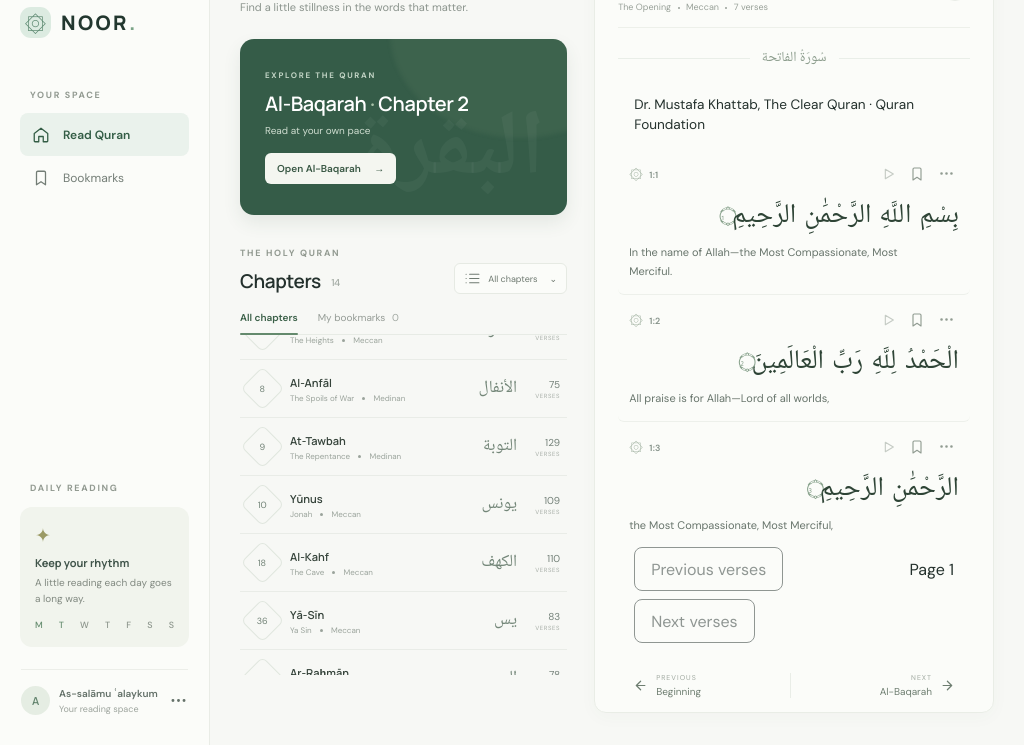
Scenario: Quran reader chapter navigation › shows the next available chapter when Next is selected
(page scrolled)
Expected: the button named "Bookmark verse 1" is shown, [903,161,930,187]
Click the button "10 Yūnus Jonah Meccan يونس 109 VERSES".
click(263, 504)  # box [240,476,567,534]
(page scrolled)
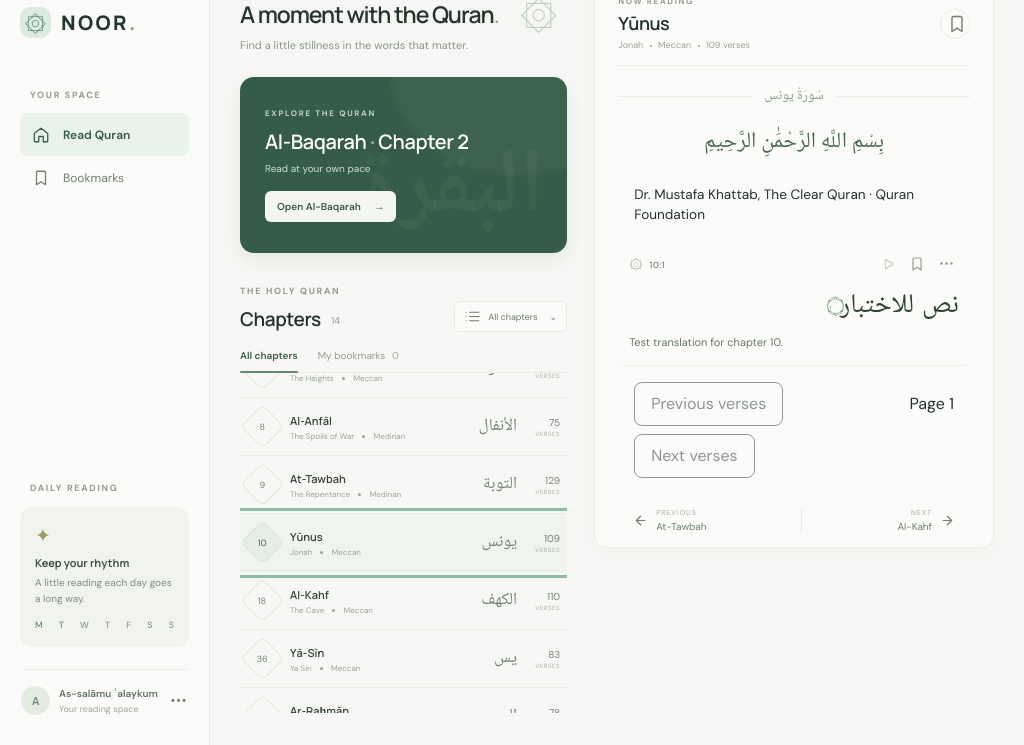
Click the button "NEXT Al-Kahf".
click(928, 520)  # box [892,507,964,534]
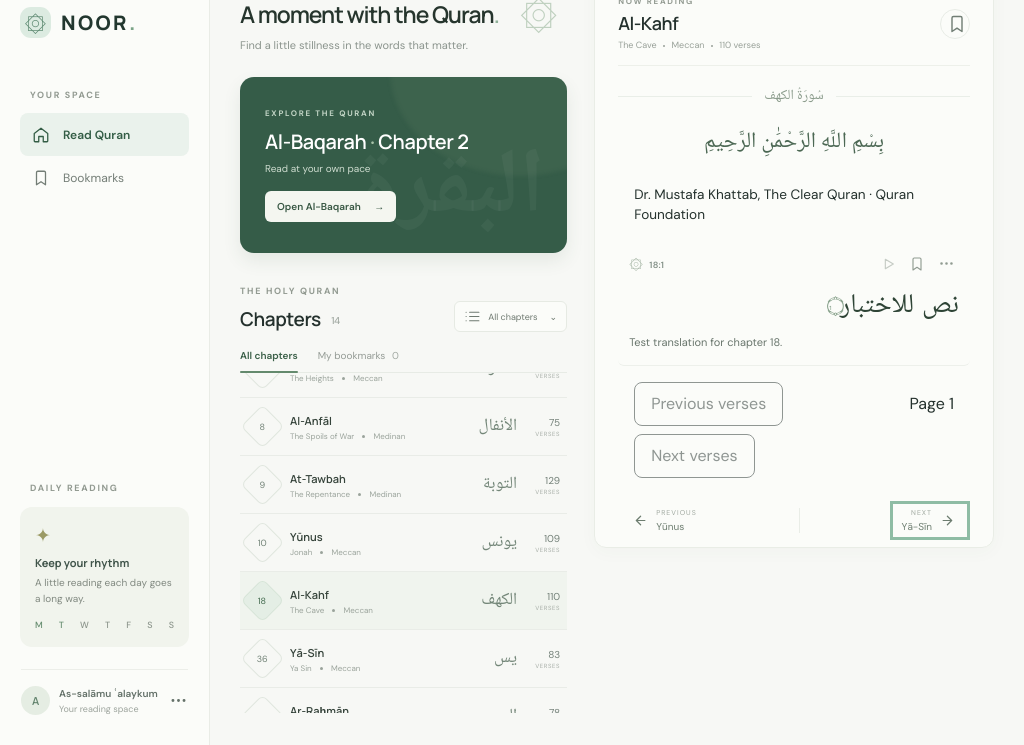
Now the heading "Al-Kahf" is shown, box [618,11,678,35]
Now the text "18:1" is shown, box [629,255,664,273]
